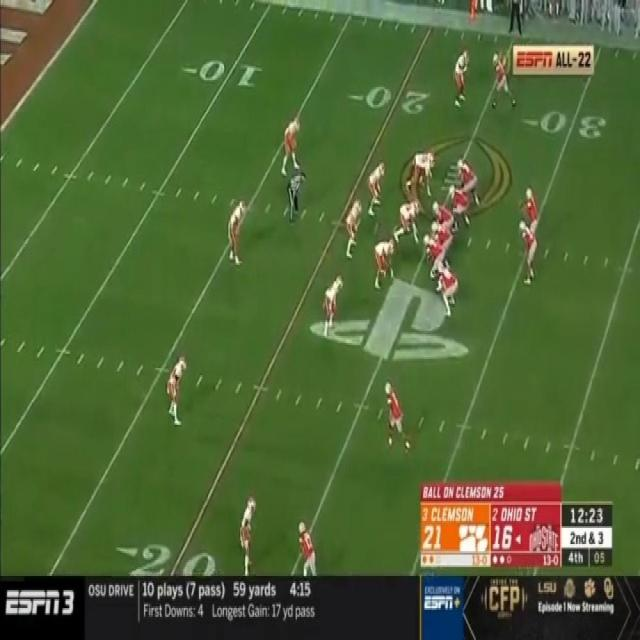center: (430, 203, 451, 229)
db: (165, 350, 187, 427), (240, 496, 257, 574), (228, 200, 247, 268), (454, 48, 472, 107), (284, 116, 300, 172)
lb: (323, 274, 343, 338), (345, 196, 362, 260), (371, 156, 388, 214)
qb: (518, 220, 537, 284), (525, 187, 540, 224)
skill: (485, 52, 516, 110), (386, 382, 410, 450), (436, 260, 458, 316), (297, 519, 318, 576)
